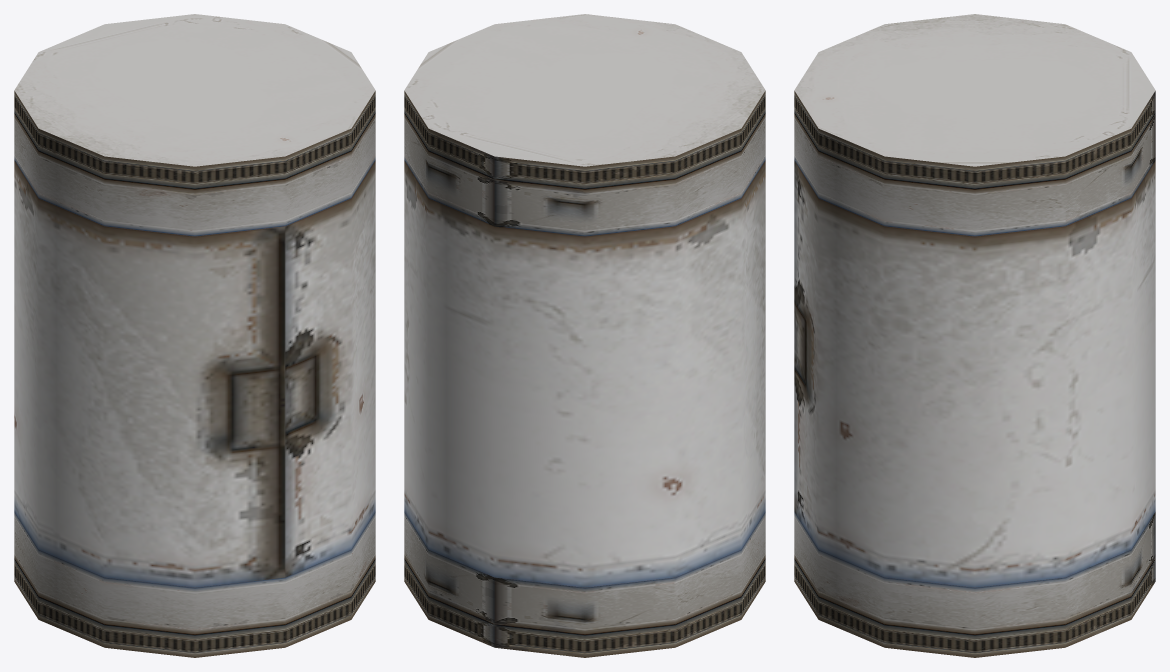
File: scifi_barrel_4.FBX
3 renders of one model, left to right at view 1: azimuth 30°, elevation 25°; view 2: azimuth 150°, elevation 25°; view 3: azimuth 270°, elevation 25°, orthographic.
Parts seen in each view (by area): view 1: Cylinder002; view 2: Cylinder002; view 3: Cylinder002.
Part boxes in pixels (x1=…): Cylinder002: x1=14, y1=14, x2=375, y2=657; Cylinder002: x1=404, y1=14, x2=765, y2=657; Cylinder002: x1=794, y1=14, x2=1155, y2=657.
Size of the model in its own units: 102 by 152 by 102.
